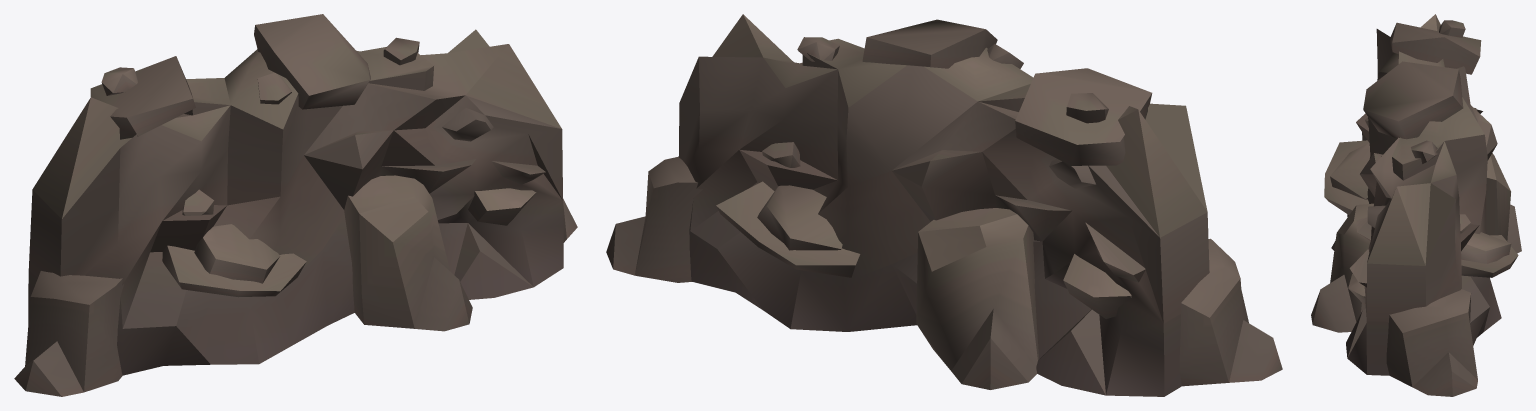
The model's file is kcas_rubble_large.glb.
3 renders of one model, left to right at view 1: azimuth 30°, elevation 25°; view 2: azimuth 150°, elevation 25°; view 3: azimuth 270°, elevation 25°, orthographic. The views are drawn at different scales.
Visible parts, largest first — view 1: rubble_large; view 2: rubble_large; view 3: rubble_large.
Part boxes in pixels (<box>): rubble_large: <box>14,14,577,396</box>; rubble_large: <box>606,14,1282,396</box>; rubble_large: <box>1311,14,1521,396</box>.
Bounding box in the file's own units: 8.13 × 3.5 × 3.18.
1 material, 1 textured.
